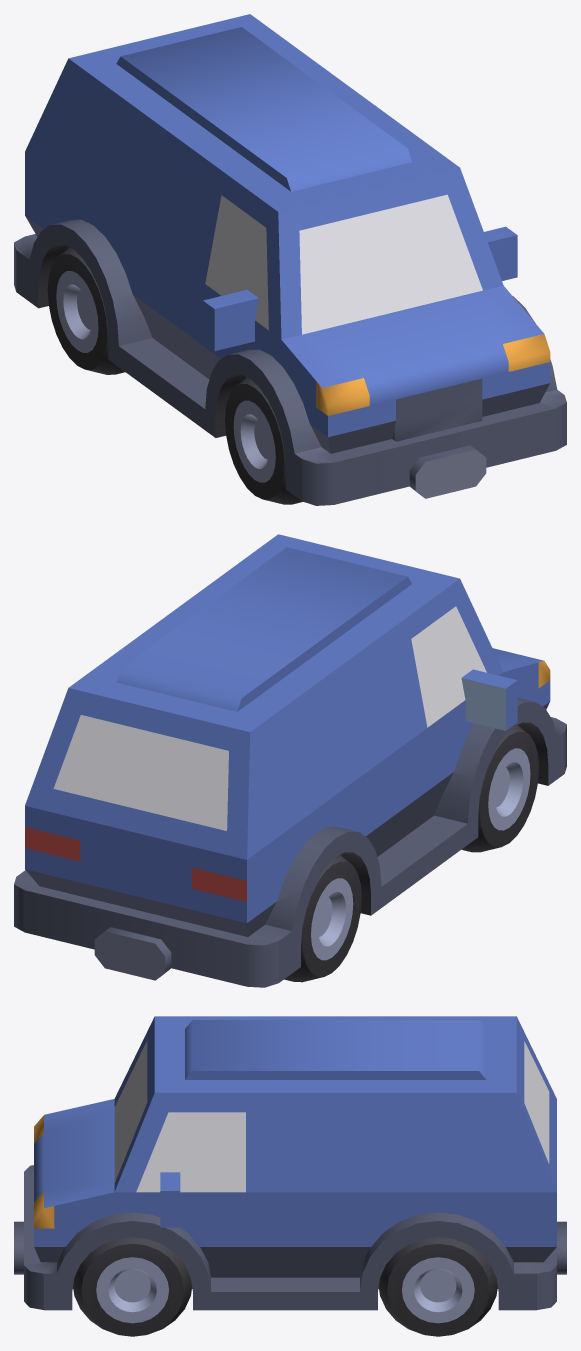
File: vehicle-van-blue.glb
3 views of the same model, one above another, from view 1: azimuth 30°, elevation 25°; view 2: azimuth 150°, elevation 25°; view 3: azimuth 270°, elevation 25° (orthographic). The views are drawn at different scales.
Parts seen in each view (by area): view 1: body, wheel-back-right, wheel-front-right; view 2: body, wheel-front-right, wheel-back-right; view 3: body, wheel-back-left, wheel-front-left.
Part boxes in pixels (box(x1,y1,x2,y2)): body: box(14, 14, 566, 505); wheel-back-right: box(47, 247, 125, 374); wheel-front-right: box(225, 377, 302, 504); body: box(14, 534, 566, 987); wheel-front-right: box(461, 725, 538, 852); wheel-back-right: box(284, 854, 361, 982); body: box(14, 1016, 566, 1310); wheel-back-left: box(378, 1237, 497, 1336); wheel-front-left: box(73, 1237, 192, 1336).
Bounding box in the file's own units: 1.5 × 1.35 × 2.75.
Materials: 1 (1 with a texture image).
